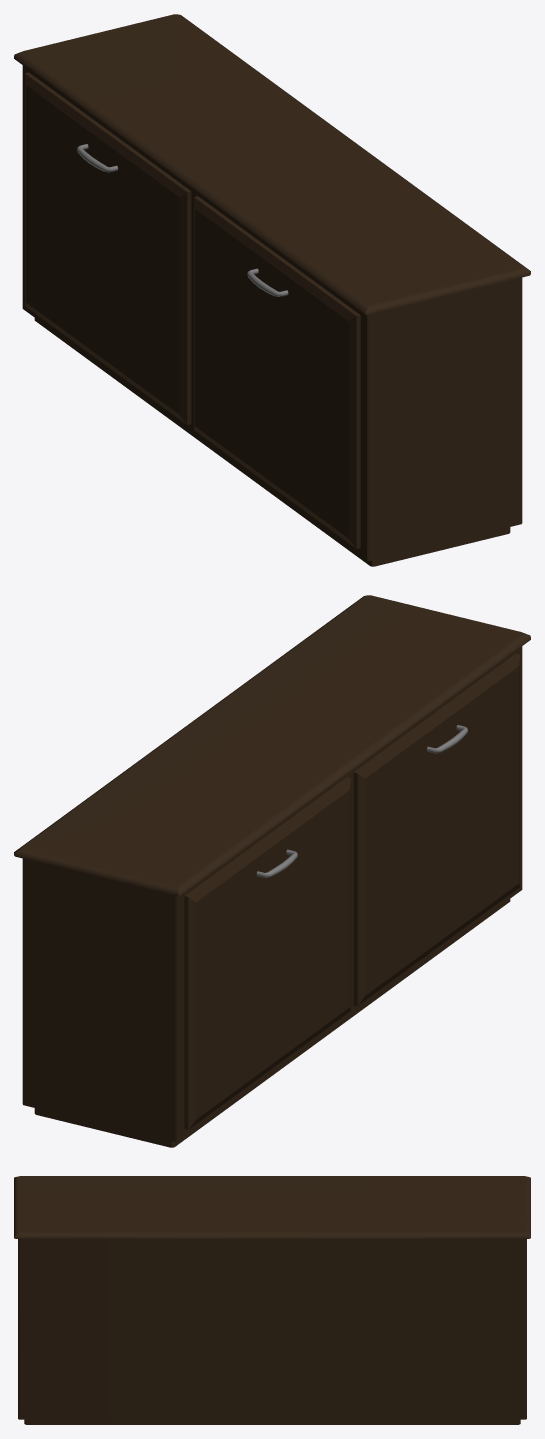
File: small_cabinet.fbx
The picture shows the model from 3 angles, top to bottom: view 1: azimuth 30°, elevation 25°; view 2: azimuth 150°, elevation 25°; view 3: azimuth 270°, elevation 25°; orthographic projection. The views are drawn at different scales.
Parts seen in each view (by area): view 1: pCube2; view 2: pCube2; view 3: pCube2.
Boxes of the visible parts, <box> form: pCube2: <box>14,14,530,566</box>; pCube2: <box>14,595,530,1147</box>; pCube2: <box>14,1176,530,1424</box>.
Bounding box in the file's own units: 0.6148 × 0.8559 × 2.05.
